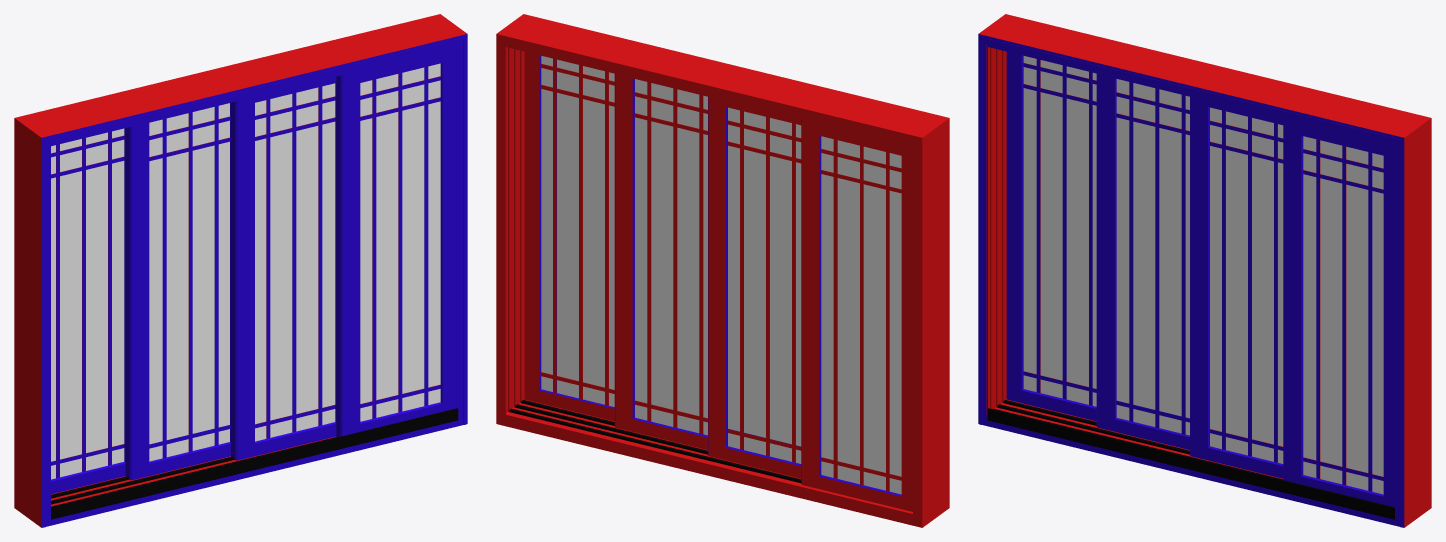
The model's file is mainv3.glb.
The picture shows the model from 3 angles, left to right: view 1: azimuth 30°, elevation 25°; view 2: azimuth 150°, elevation 25°; view 3: azimuth 330°, elevation 25°; orthographic projection.
Visible parts, largest first — view 1: Extrusion [15189], SecondGlass, FourthGlass, ThirdGlass, FirstGlass, FourthWindow, ThirdWindow, SecondWindow, Extrusion [42449], Sweep [51318], Sweep [14490], Door Clip-PGT Interior [32647] (+15 smaller); view 2: Extrusion [15189], FirstGlass, ThirdGlass, SecondGlass, FourthGlass, FirstWindow, SecondWindow, ThirdWindow, Sweep [14490], FourthWindow, Extrusion [42449], VerticalGrill11.005 (+11 smaller); view 3: Extrusion [15189], FourthGlass, SecondGlass, FirstGlass, ThirdGlass, FourthWindow, ThirdWindow, SecondWindow, FirstWindow, Sweep [14490], Extrusion [42449], Sweep [51318] (+13 smaller).
Boxes of the visible parts, x1,y1,x2,y2 form: Extrusion [15189]: (14,14,467,527); SecondGlass: (149,103,229,461); FourthGlass: (360,63,440,421); ThirdGlass: (255,83,335,441); FirstGlass: (51,128,124,479); FourthWindow: (342,47,457,436); ThirdWindow: (236,77,336,460); SecondWindow: (131,102,230,480); Extrusion [42449]: (51,408,458,519); Sweep [51318]: (43,37,466,527); Sweep [14490]: (49,44,459,513); Door Clip-PGT Interior [32647]: (125,127,131,480); Extrusion [15189]: (496,14,949,527); FirstGlass: (821,136,901,494); ThirdGlass: (635,79,707,435); SecondGlass: (728,107,801,463); FourthGlass: (541,56,614,406); FirstWindow: (801,119,912,511); SecondWindow: (708,96,801,478); ThirdWindow: (615,73,707,449); Sweep [14490]: (504,44,914,514); FourthWindow: (524,52,614,421); Extrusion [42449]: (509,400,801,482); VerticalGrill11.005: (647,82,651,421); Extrusion [15189]: (978,14,1431,527); FourthGlass: (1303,136,1383,494); SecondGlass: (1116,79,1189,435); FirstGlass: (1023,56,1096,406); ThirdGlass: (1210,107,1283,463); FourthWindow: (1283,119,1394,507); ThirdWindow: (1190,96,1283,478); SecondWindow: (1097,74,1189,449); FirstWindow: (1006,51,1096,421); Sweep [14490]: (986,44,1396,513); Extrusion [42449]: (987,400,1394,519); Sweep [51318]: (979,37,1402,527).
Bounding box in the file's own units: 2.45 × 2.15 × 0.2735.
